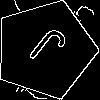J: (20, 24, 70, 77)
